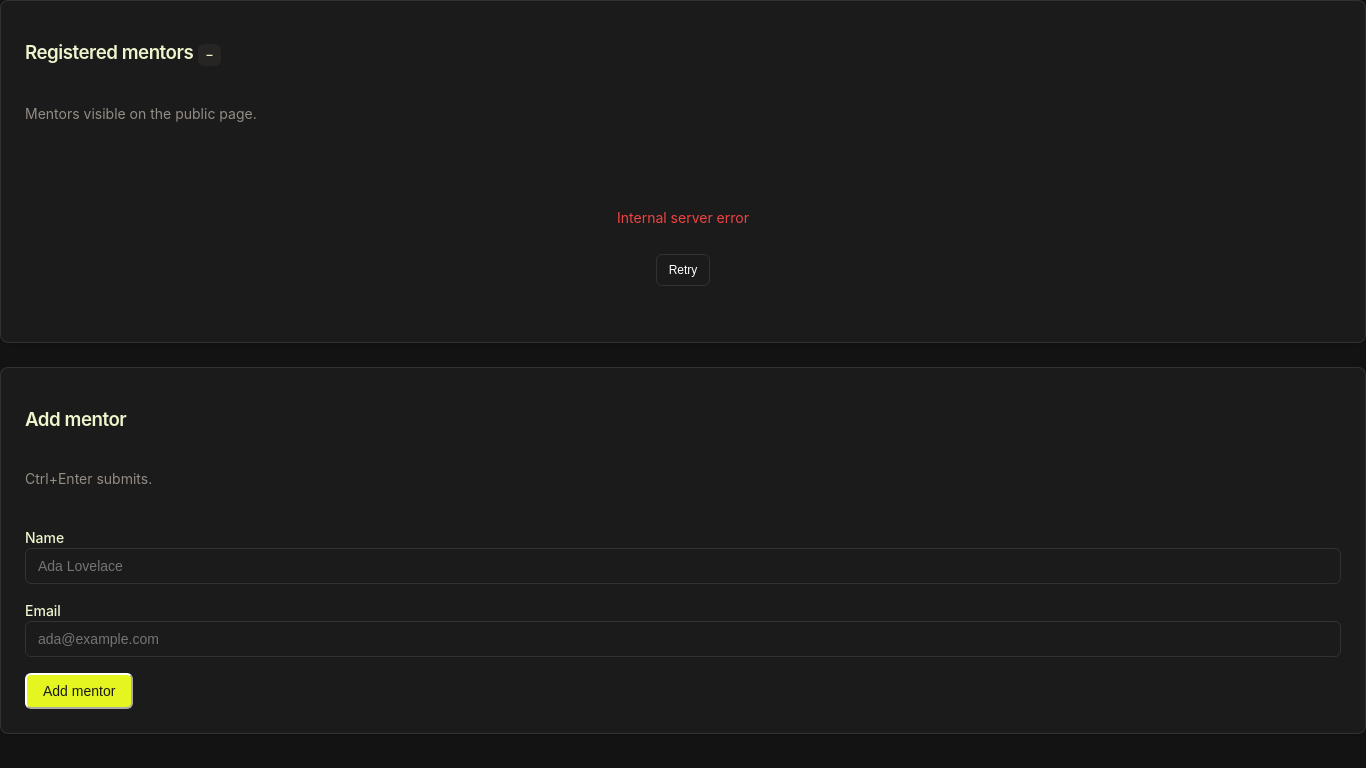
AdminMentors › shows the error state and retries the request
Expected: the text "Internal server error" is shown, [617,208,749,228]
Expected: the text "–" is shown, [198,44,221,66]
Click the button "Retry". click: [683, 270]
box: [656,254,710,286]
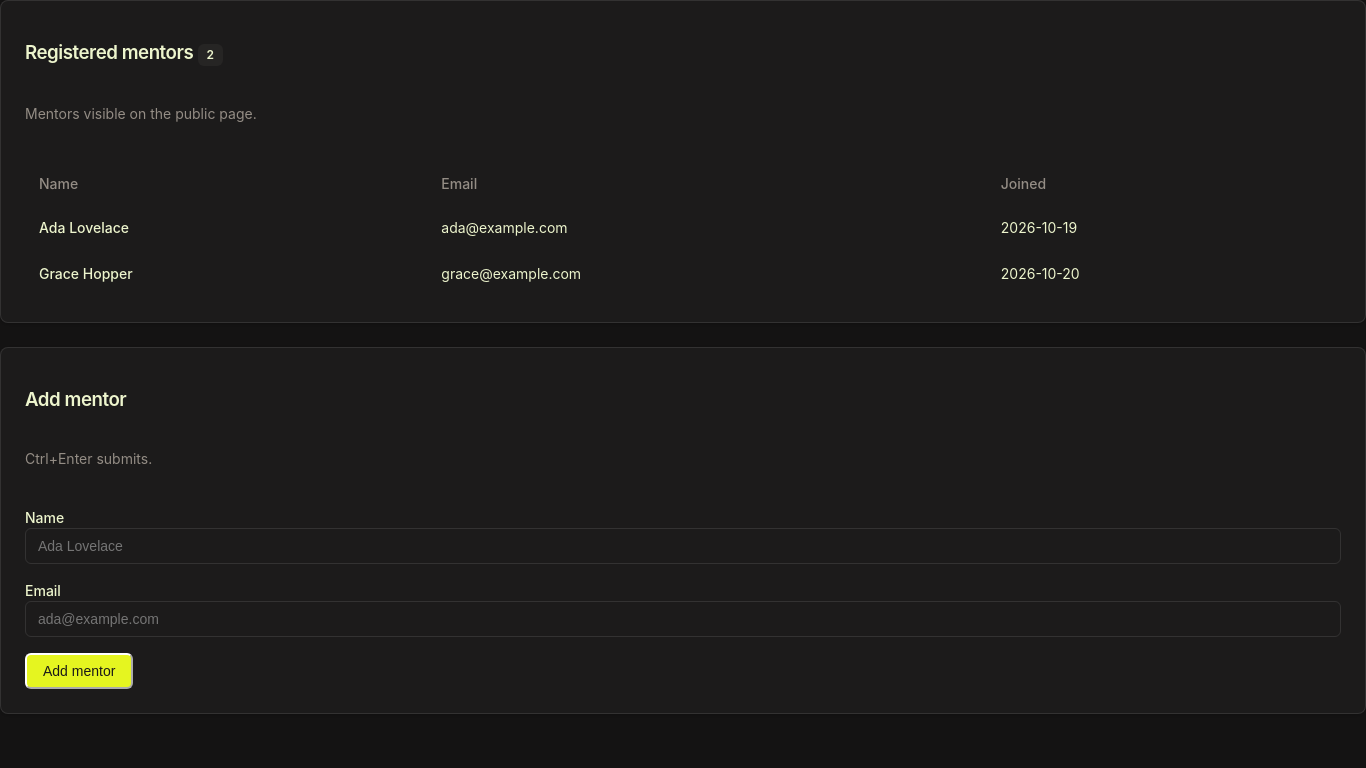
Expected: the cell "Ada Lovelace" is shown, [27,206,427,250]
